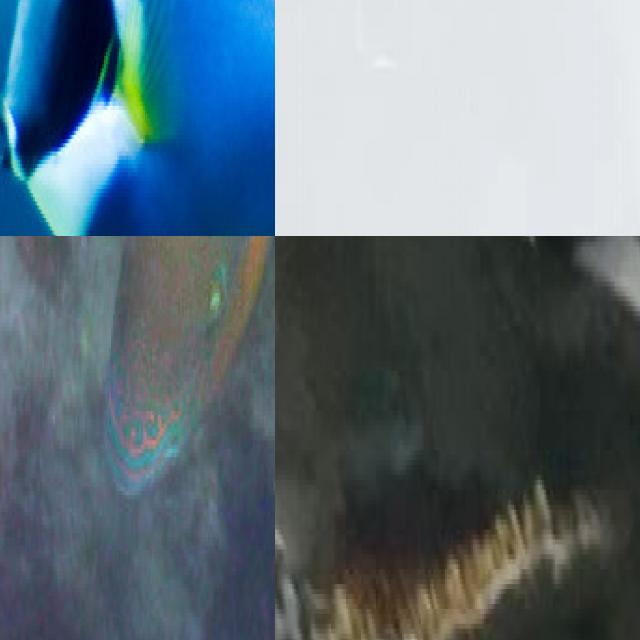fish: (0, 0, 275, 236), (23, 236, 275, 478)
